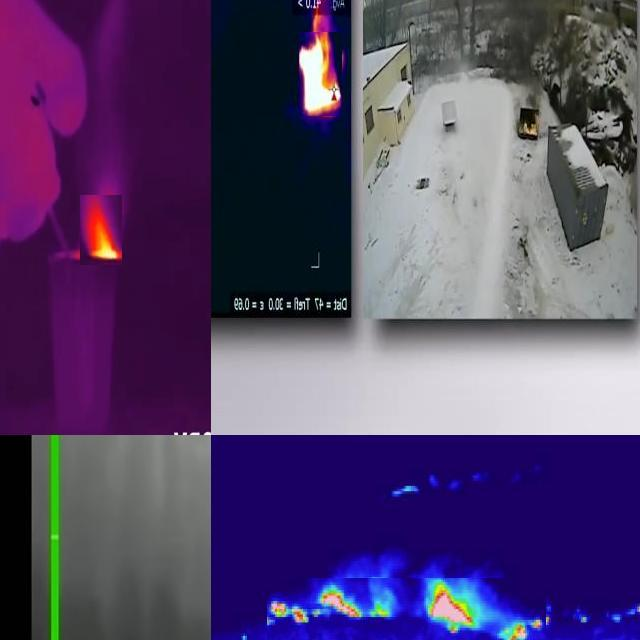fire: (267, 578, 546, 640), (299, 32, 342, 116), (80, 195, 122, 265), (520, 117, 538, 141)
